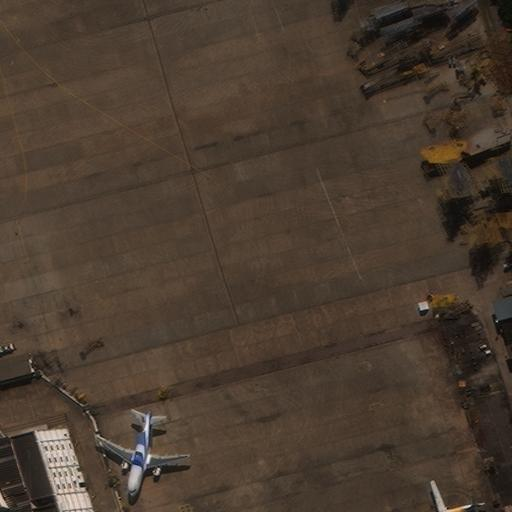Medium Civil Transport: (102, 412, 180, 491), (421, 486, 476, 512)
